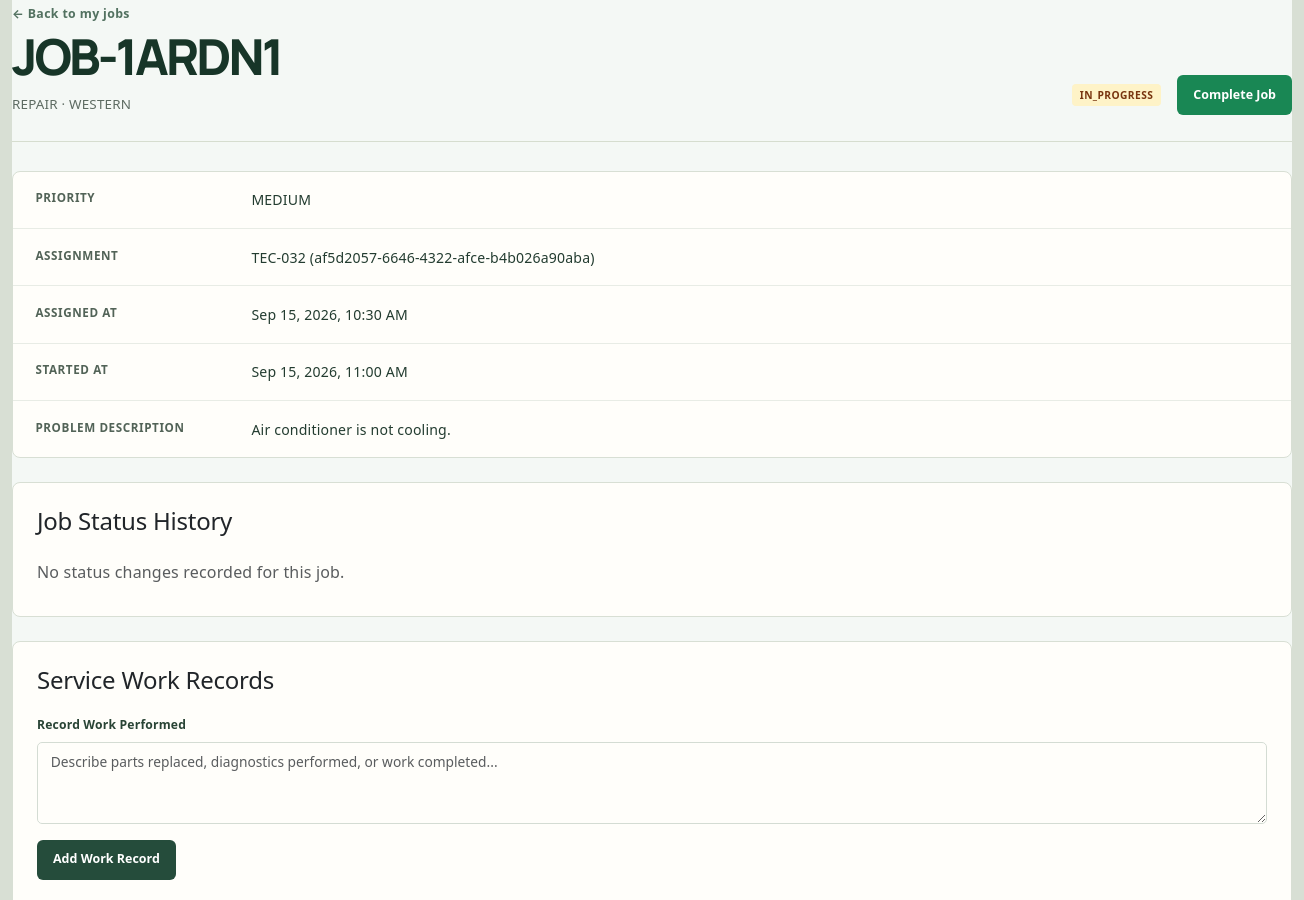
Scenario: JobDetailPage › rejects an empty work record
This screenshot has width=1304, height=900.
Click the button "Add Work Record".
click(106, 860)  # box [37,840,176,880]
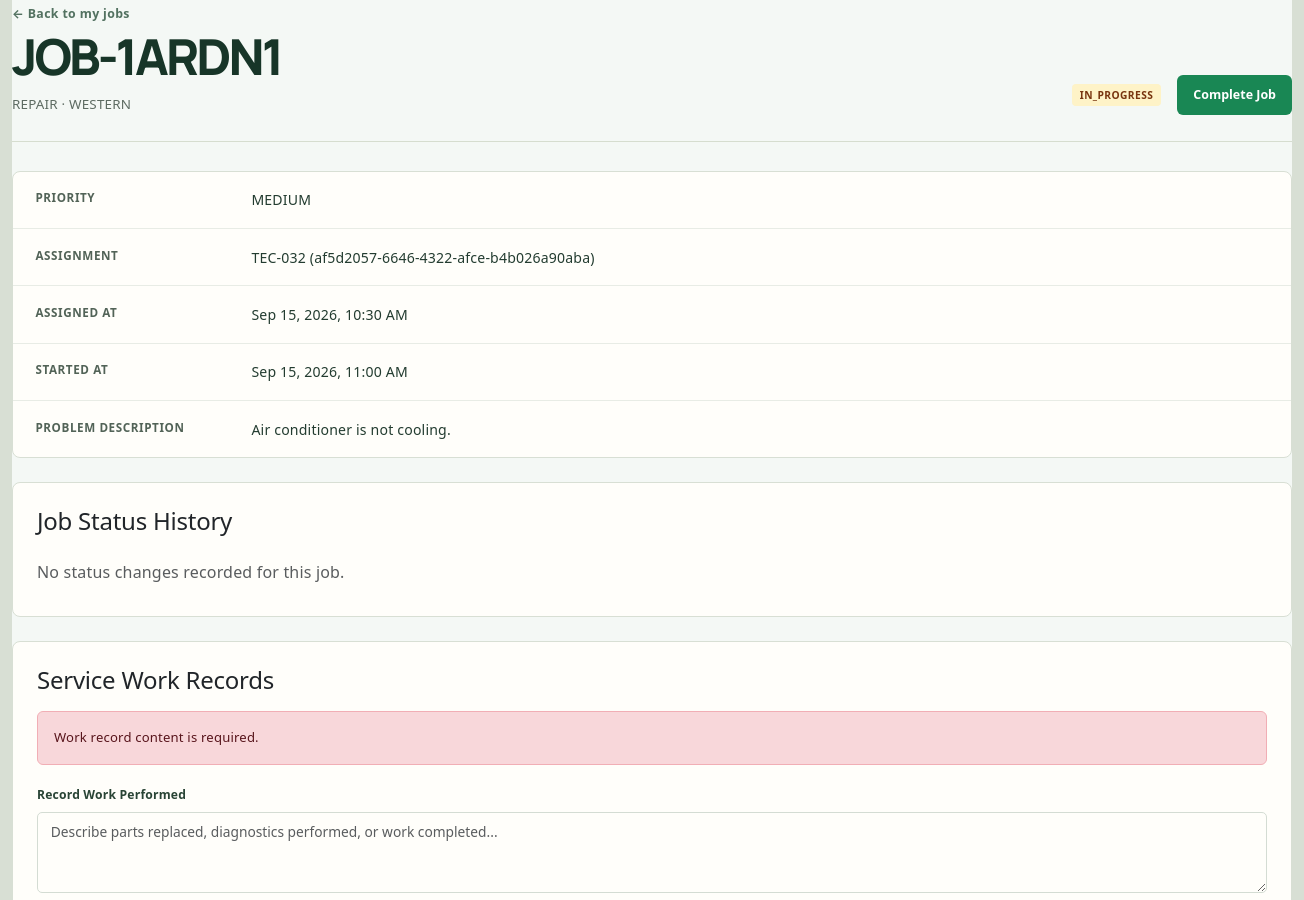
Result: the text "Work record content is required." is shown at [37,711,1267,765]
